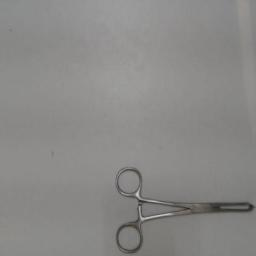Allis Tissue Forceps: (110, 160, 254, 256)
